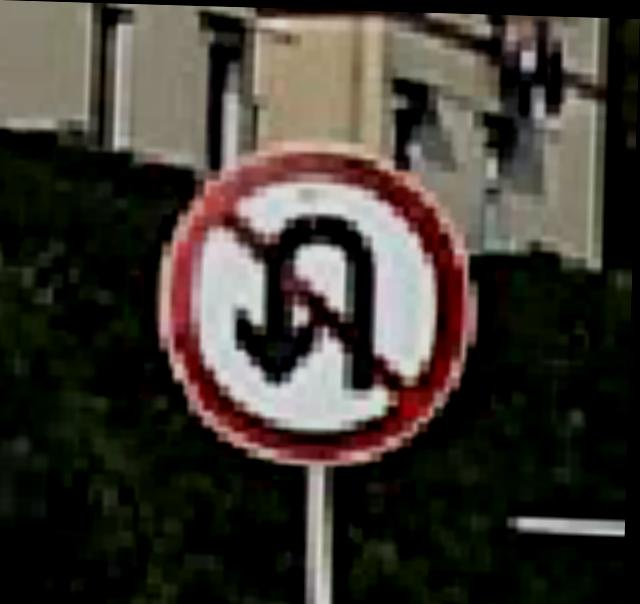not_u_turn_left: (161, 129, 480, 452)
